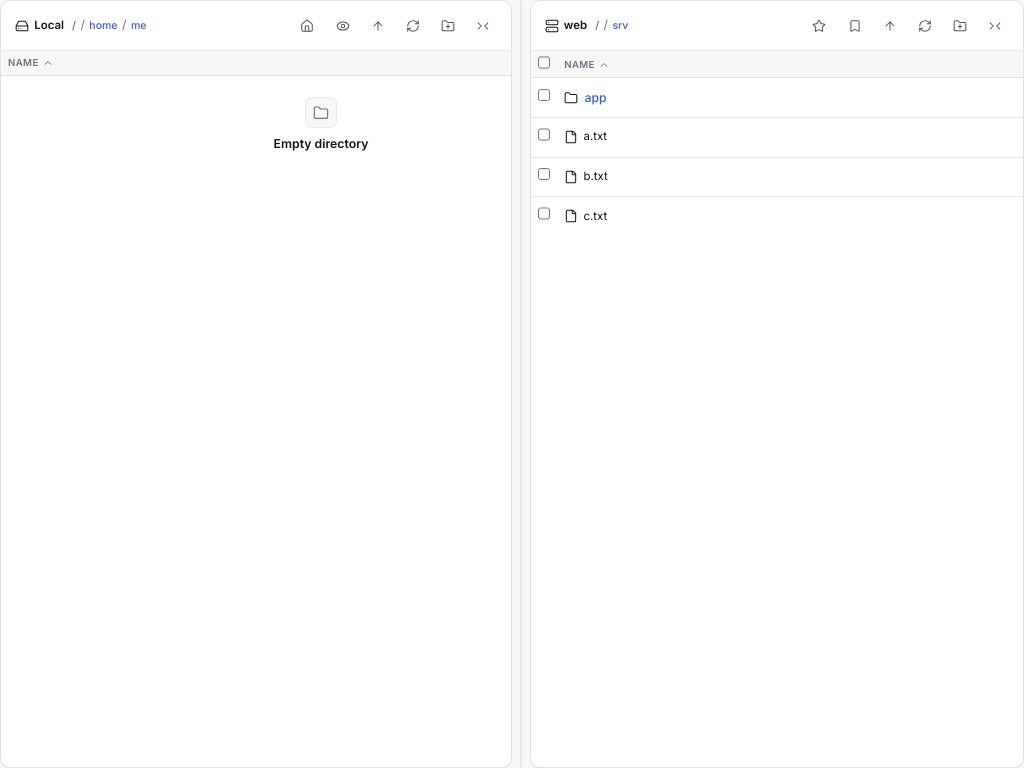
Test case: favourite folders › stars the folder for this host, and opens it again from the menu
Expected: the text "a.txt" is shown, [584,128,607,146]
Click the button named "Add this folder to favourites" at (819, 26), box [805,12,834,40]
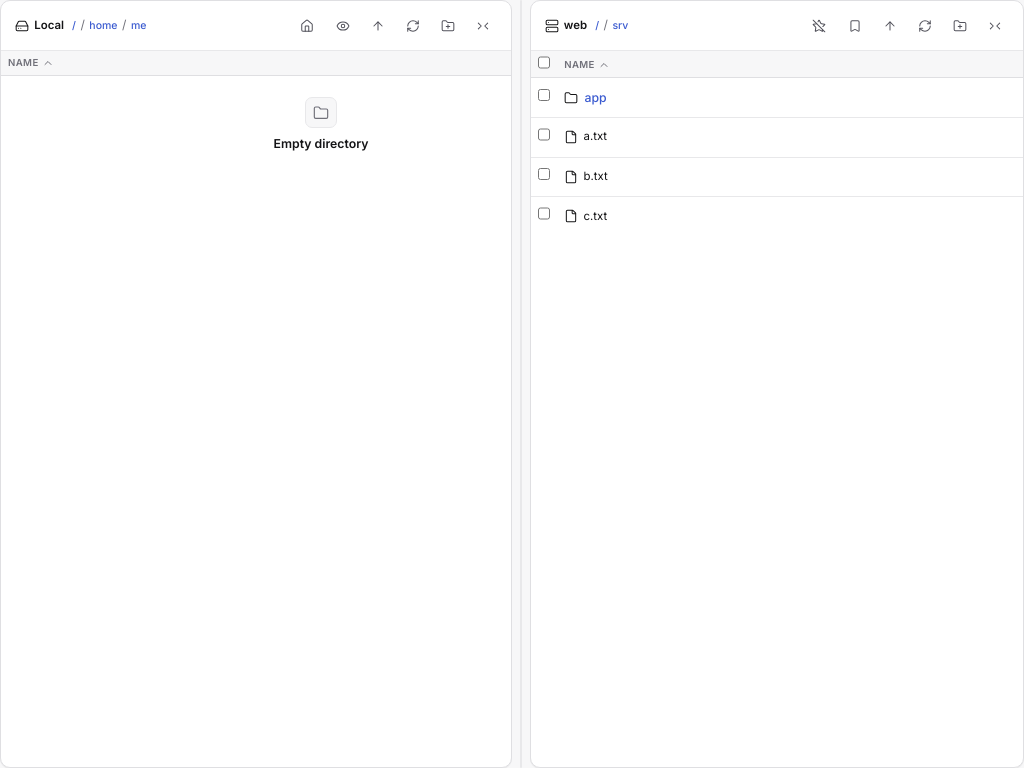
Expected: the button named "Remove this folder from favourites" is shown, [805,12,834,40]
Click the button "app" at (596, 98), box [584,88,608,107]
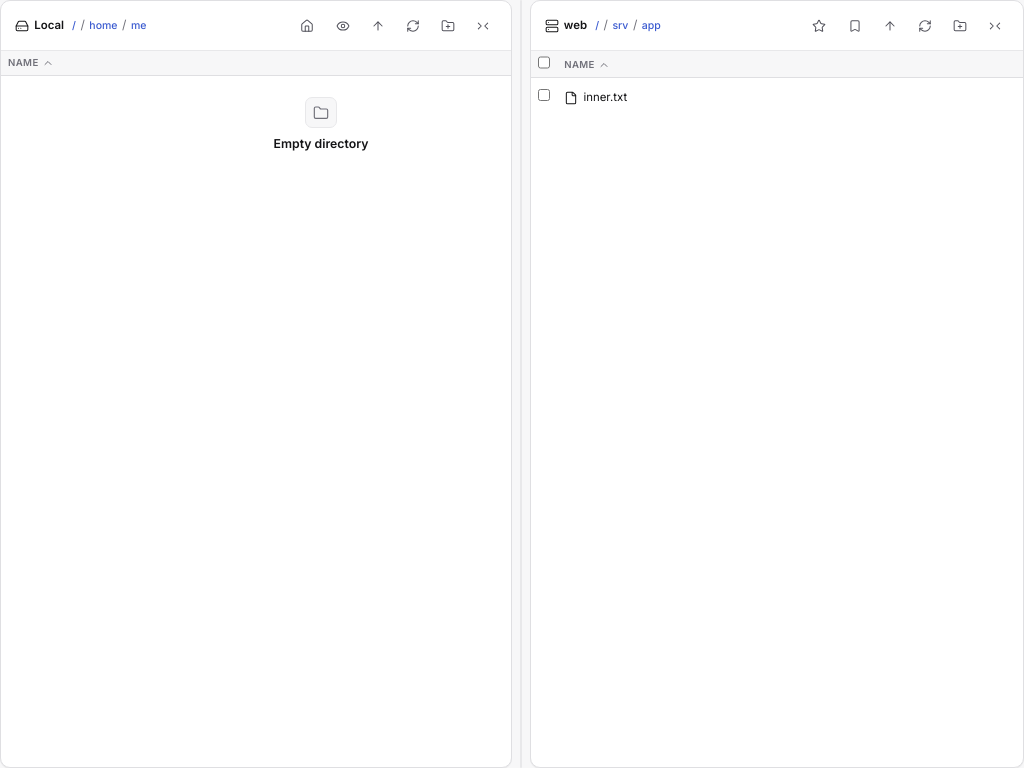
Expected: the text "inner.txt" is shown, [584,89,627,106]
Expected: the button named "Add this folder to favourites" is shown, [805,12,834,40]
Click the button named "Favourite folders" at (855, 26), box [840,12,869,40]
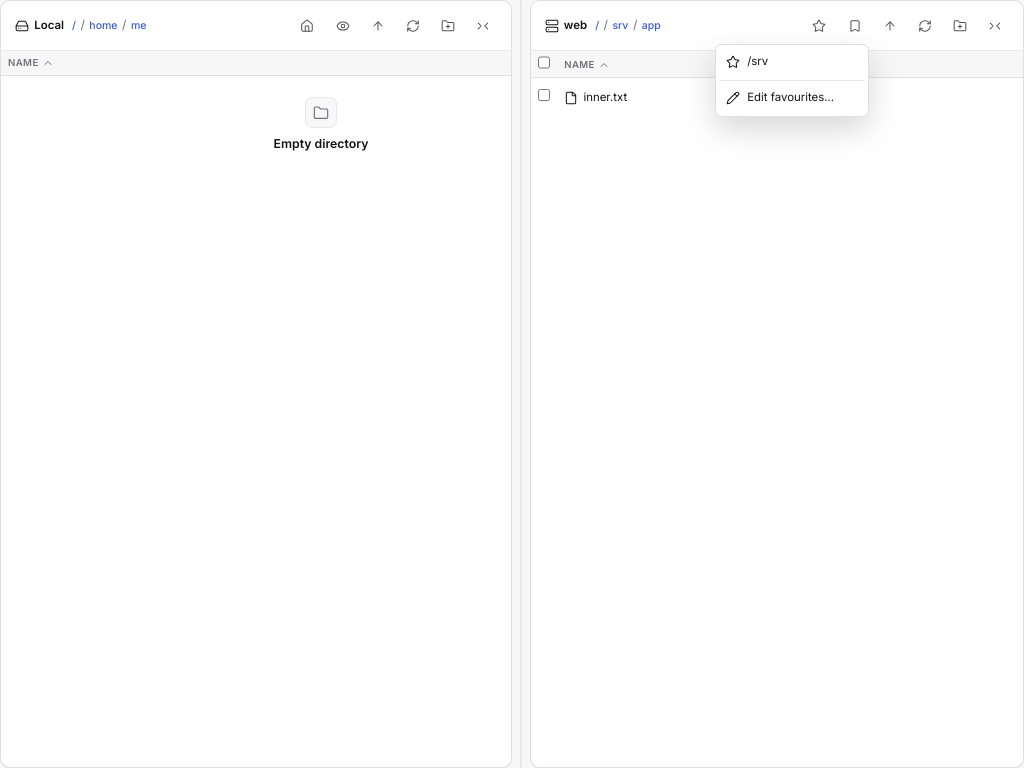
Click the menu item "/srv" at (792, 62), box [719,48,865,76]
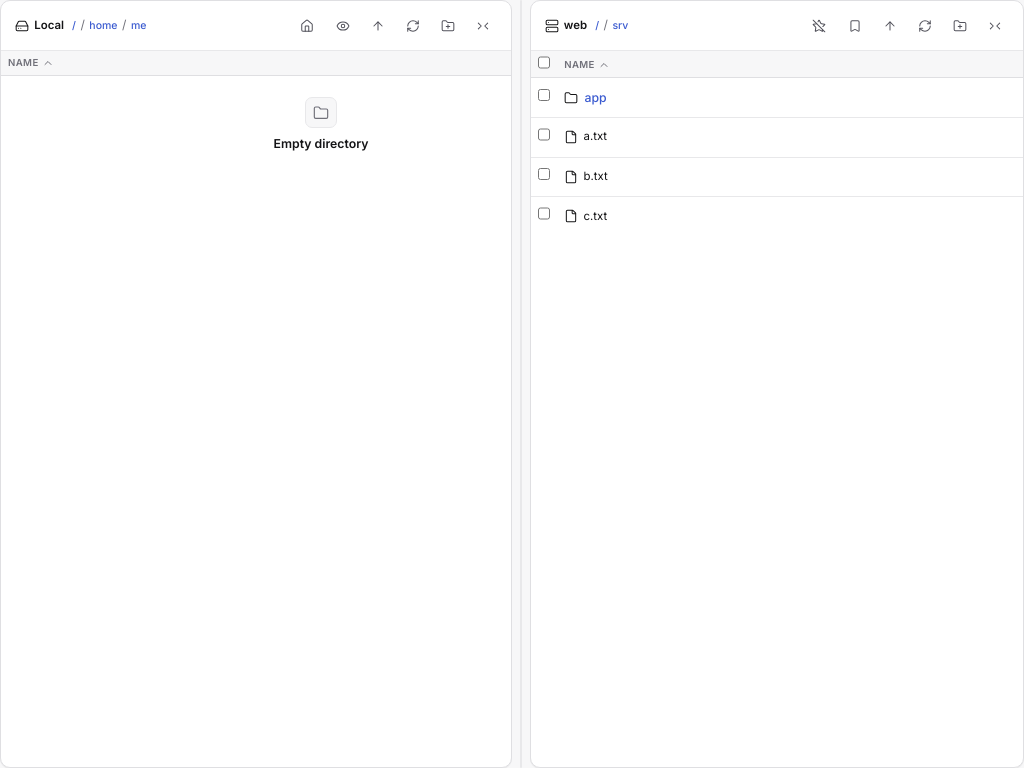
Expected: the text "a.txt" is shown, [584,128,607,146]
